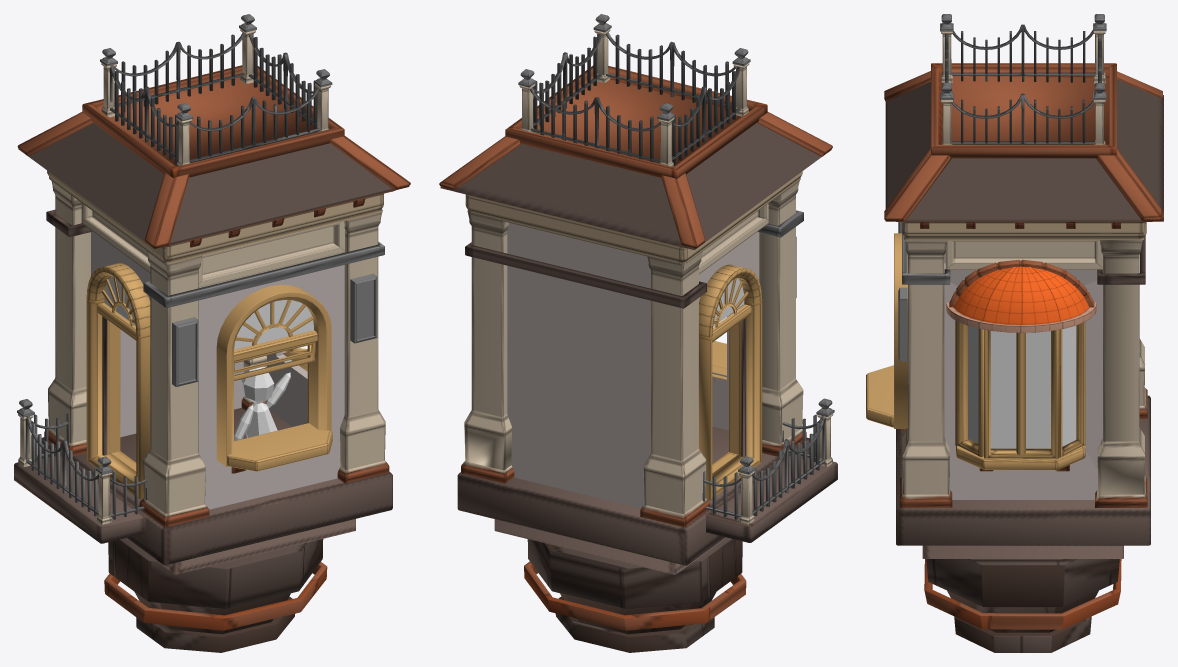
File: cafe.CAMVBIOTEXTURE1.glb
The picture shows the model from 3 angles, left to right: view 1: azimuth 30°, elevation 25°; view 2: azimuth 150°, elevation 25°; view 3: azimuth 270°, elevation 25°; orthographic projection.
Parts seen in each view (by area): view 1: mesh_teto.004, mesh_pillars.001, mesh_wall_main, mesh_floor, mesh_motor, mesh_wall_door, mesh_wall_main.001, mesh_floor.001, mesh_pillars.002, mesh_pillars, mesh_char_low, mesh_wall_left.003 (+3 smaller); view 2: mesh_teto.004, mesh_pillars, mesh_pillars.001, mesh_floor, mesh_motor, mesh_wall_door, mesh_floor.001, mesh_wall_main; view 3: mesh_teto.004, mesh_wall_left.003, mesh_pillars.001, mesh_motor, mesh_floor, mesh_glass_left, mesh_wall_main.001, mesh_wall_main, mesh_pillars, mesh_pillars.002, mesh_linkedin_low.
Boxes of the visible parts, x1=… form: mesh_teto.004: x1=17, y1=14, x2=410, y2=263; mesh_pillars.001: x1=44, y1=181, x2=389, y2=527; mesh_wall_main: x1=198, y1=221, x2=345, y2=509; mesh_floor: x1=14, y1=399, x2=392, y2=574; mesh_motor: x1=104, y1=538, x2=327, y2=652; mesh_wall_door: x1=81, y1=203, x2=150, y2=498; mesh_wall_main.001: x1=216, y1=285, x2=331, y2=466; mesh_floor.001: x1=25, y1=413, x2=147, y2=519; mesh_pillars.002: x1=143, y1=241, x2=384, y2=308; mesh_pillars: x1=46, y1=209, x2=244, y2=437; mesh_char_low: x1=234, y1=365, x2=290, y2=440; mesh_wall_left.003: x1=266, y1=348, x2=307, y2=426; mesh_teto.004: x1=439, y1=14, x2=832, y2=264; mesh_pillars: x1=465, y1=222, x2=706, y2=508; mesh_pillars.001: x1=461, y1=180, x2=806, y2=527; mesh_floor: x1=457, y1=398, x2=837, y2=574; mesh_motor: x1=524, y1=537, x2=746, y2=652; mesh_wall_door: x1=699, y1=204, x2=768, y2=500; mesh_floor.001: x1=702, y1=414, x2=825, y2=519; mesh_wall_main: x1=712, y1=316, x2=728, y2=430; mesh_teto.004: x1=884, y1=14, x2=1163, y2=240; mesh_wall_left.003: x1=944, y1=240, x2=1102, y2=499; mesh_pillars.001: x1=899, y1=240, x2=1147, y2=507; mesh_motor: x1=924, y1=559, x2=1121, y2=652; mesh_floor: x1=896, y1=395, x2=1150, y2=558; mesh_glass_left: x1=968, y1=325, x2=1076, y2=448; mesh_wall_main.001: x1=894, y1=233, x2=907, y2=428; mesh_wall_main: x1=866, y1=365, x2=906, y2=432; mesh_pillars: x1=1097, y1=236, x2=1145, y2=284; mesh_pillars.002: x1=902, y1=234, x2=950, y2=284; mesh_linkedin_low: x1=898, y1=287, x2=907, y2=361.
Size of the model in its own units: 0.533 by 0.9461 by 0.4467.
Materials: 1 (1 with a texture image).
